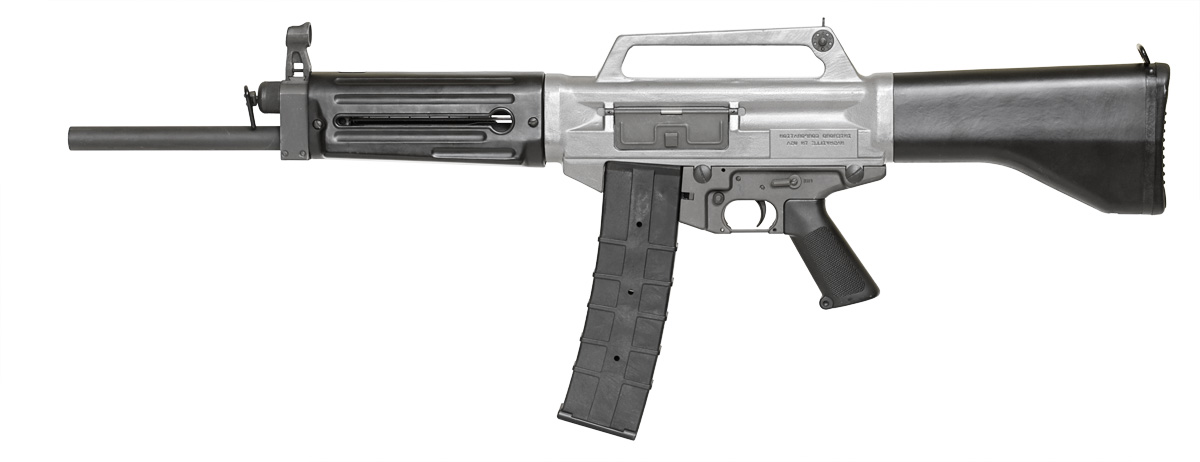Gun: (224, 36, 1062, 228)
